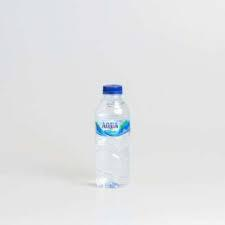BIODEGRADABLE: (88, 80, 147, 194)
